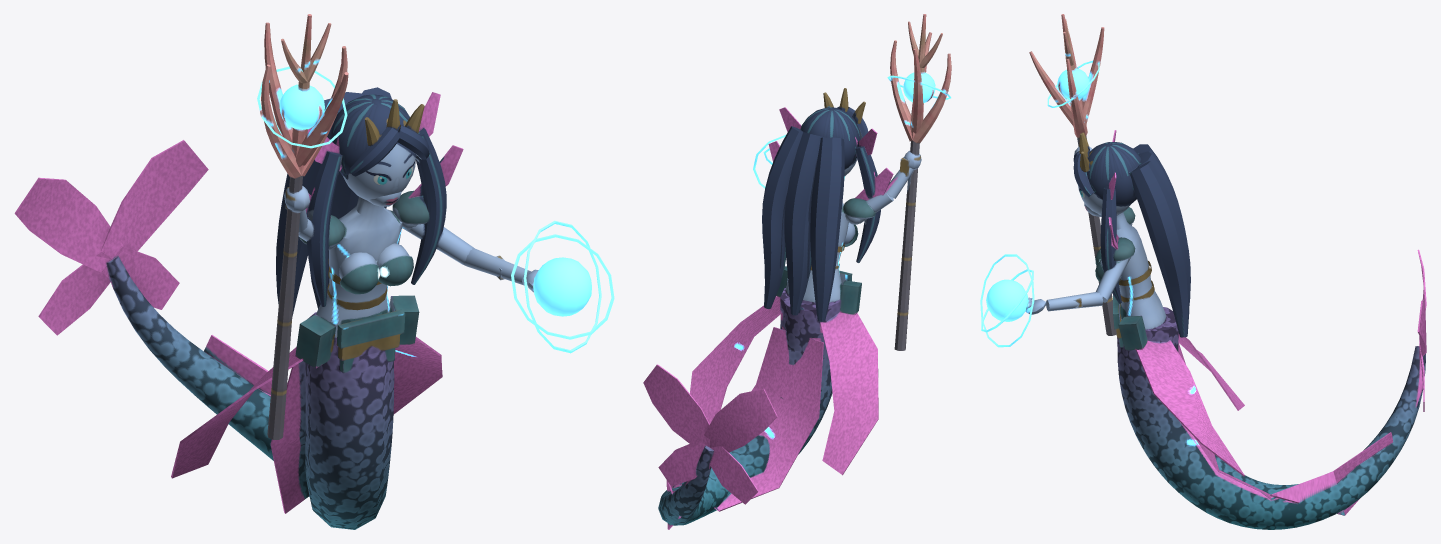
The model's file is SM_Champion_9002_Baira.glb.
3 renders of one model, left to right at view 1: azimuth 30°, elevation 25°; view 2: azimuth 150°, elevation 25°; view 3: azimuth 270°, elevation 25°, orthographic. The views are drawn at different scales.
Visible parts, largest first — view 1: Baira; view 2: Baira; view 3: Baira.
Part boxes in pixels (bbox=[...]): Baira: bbox=[14, 14, 614, 529]; Baira: bbox=[643, 14, 951, 529]; Baira: bbox=[980, 14, 1426, 529].
Size of the model in its own units: 1.31 by 2.59 by 2.3.
1 material, 1 textured.
